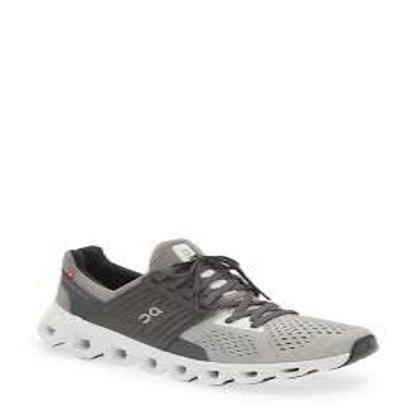not trash: (39, 238, 379, 386)
